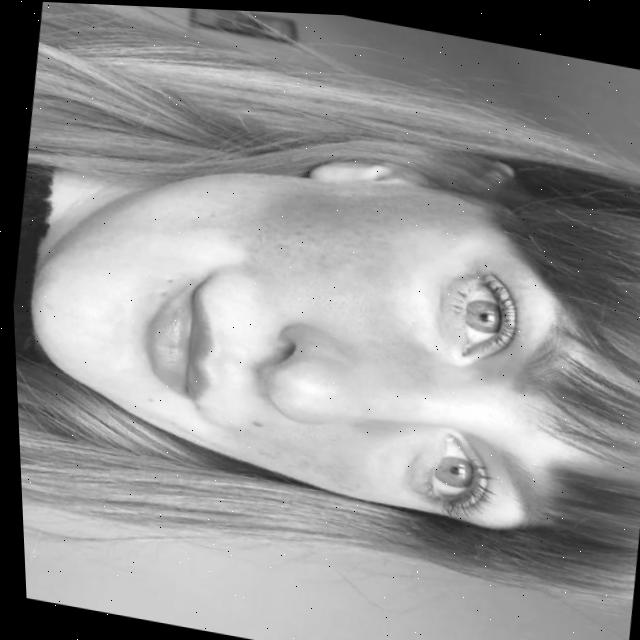Rosacea: (234, 177, 473, 350), (239, 407, 395, 518)
